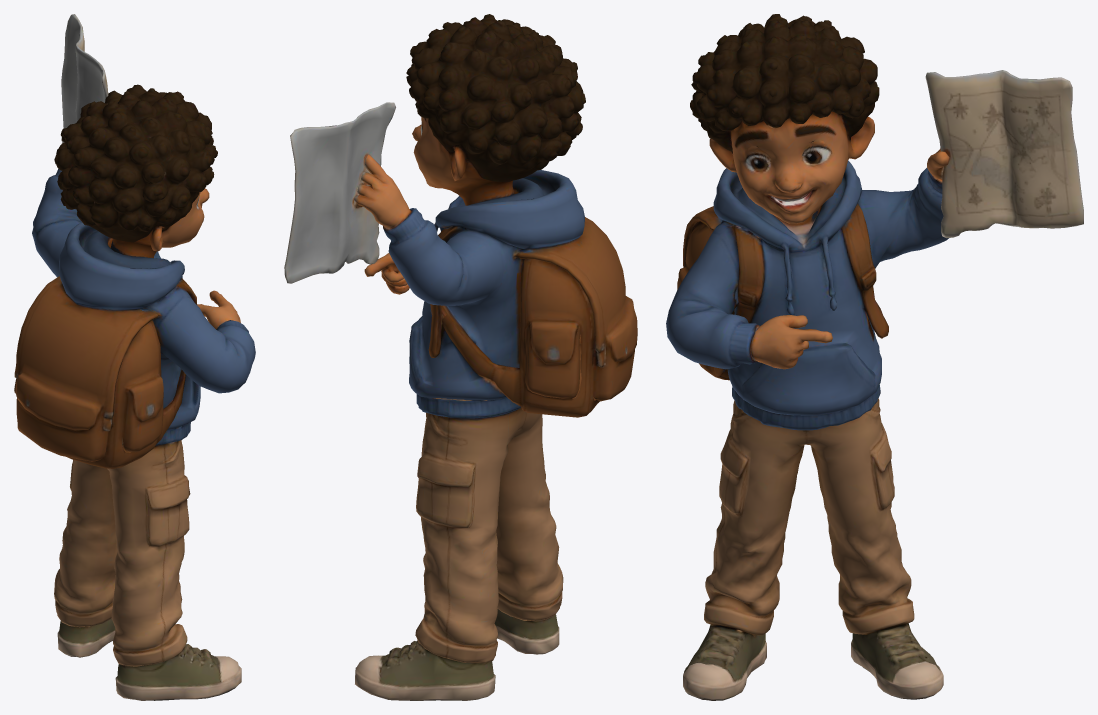
Rendered from detective-curly-boy-happy.glb.
3 renders of one model, left to right at view 1: azimuth 30°, elevation 25°; view 2: azimuth 150°, elevation 25°; view 3: azimuth 270°, elevation 25°, orthographic. The views are drawn at different scales.
Visible parts, largest first — view 1: tripo_node_047e8b51-694d-43f3-b58b-58534e346b99; view 2: tripo_node_047e8b51-694d-43f3-b58b-58534e346b99; view 3: tripo_node_047e8b51-694d-43f3-b58b-58534e346b99.
Boxes of the visible parts, box(x1,y1,x2,y2) form: tripo_node_047e8b51-694d-43f3-b58b-58534e346b99: box(14, 14, 255, 700); tripo_node_047e8b51-694d-43f3-b58b-58534e346b99: box(284, 14, 637, 700); tripo_node_047e8b51-694d-43f3-b58b-58534e346b99: box(666, 14, 1083, 700).
Size of the model in its own units: 0.3953 by 1 by 0.5832.
Materials: 1 (1 with a texture image).
